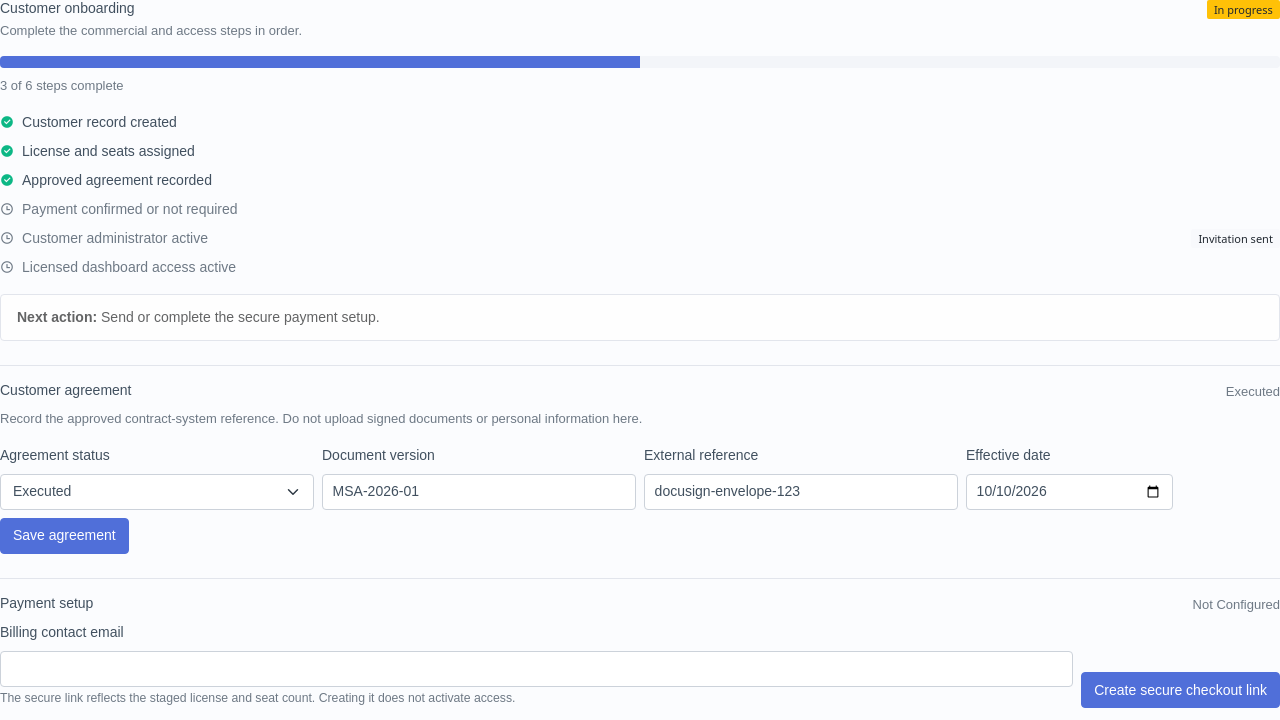
CustomerOnboardingPanel › creates and exposes a secure checkout link for the staged terms
Type "BILLING@EXAMPLE.COM" into the field labelled "Billing contact email". click: [537, 669]
box: [0,651,1073,687]
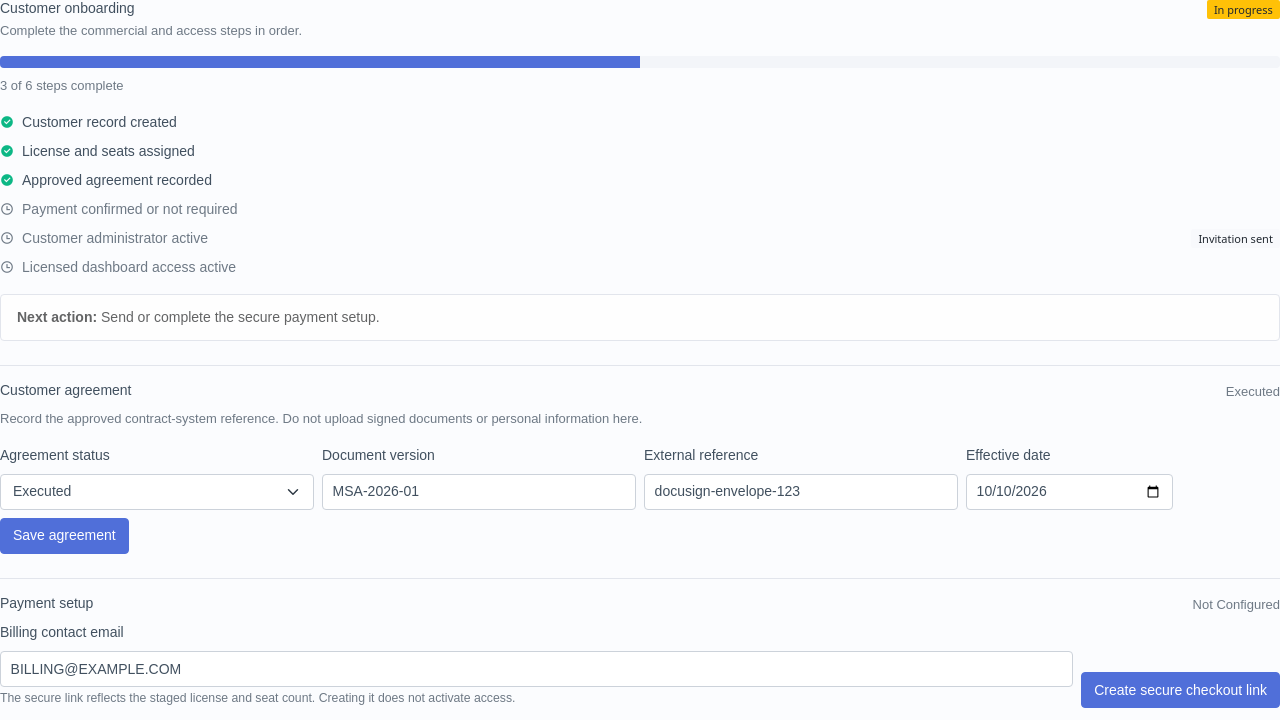
Click the button "Create secure checkout link". click: [1181, 690]
box: [1081,672,1279,708]
(page scrolled)
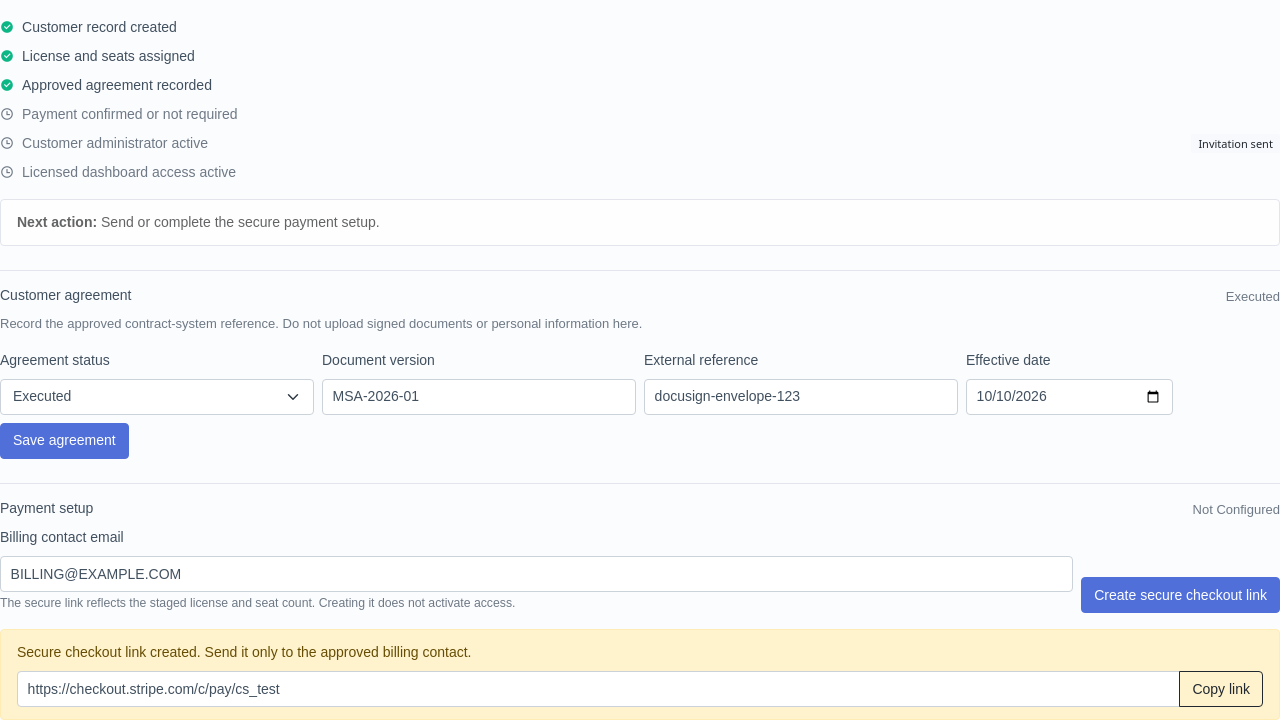
Now the field named "Secure customer checkout link" holds "https://checkout.stripe.com/c/pay/cs_test", box [17,671,1180,707]
